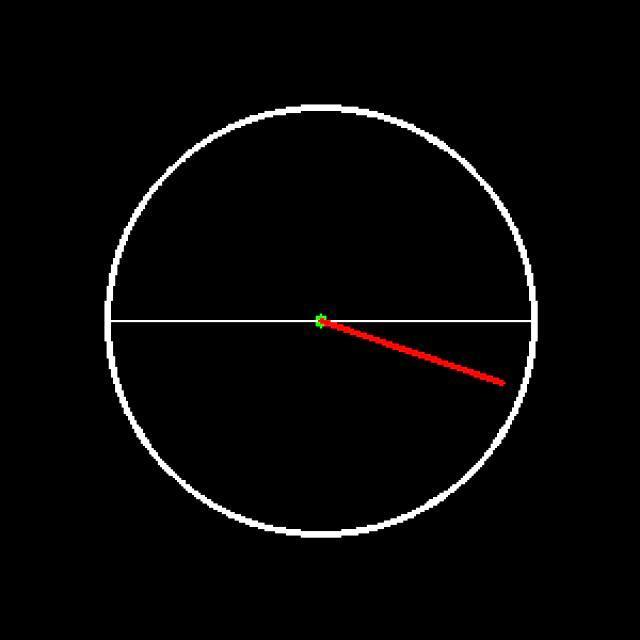Needle_Tip: (453, 350, 514, 403)
Needle_base: (289, 268, 348, 372)
